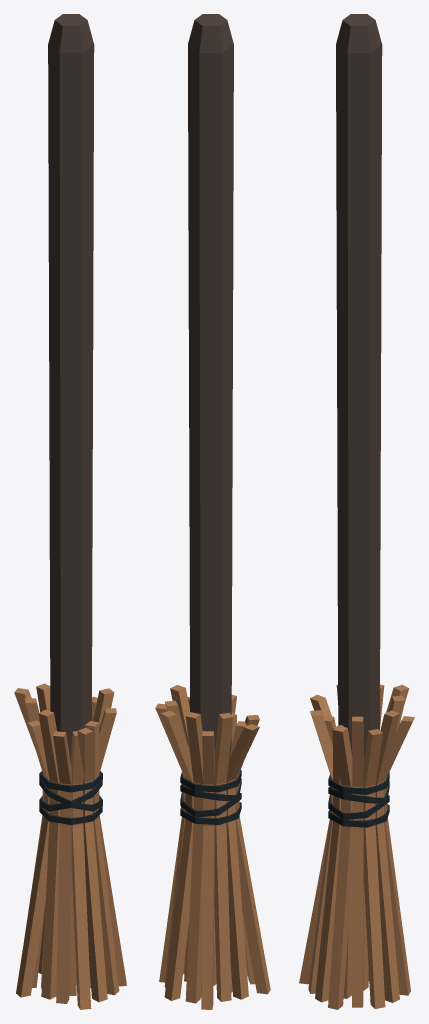
File: Broom.fbx
The picture shows the model from 3 angles, left to right: view 1: azimuth 90°, elevation 25°; view 2: azimuth 150°, elevation 25°; view 3: azimuth 330°, elevation 25°; orthographic projection.
Visible parts, largest first — view 1: Broom; view 2: Broom; view 3: Broom.
Part boxes in pixels (bbox=[...]): Broom: bbox=[14, 14, 126, 1009]; Broom: bbox=[155, 14, 270, 1009]; Broom: bbox=[299, 14, 414, 1009].
Size of the model in its own units: 15.1 by 14.67 by 138.
